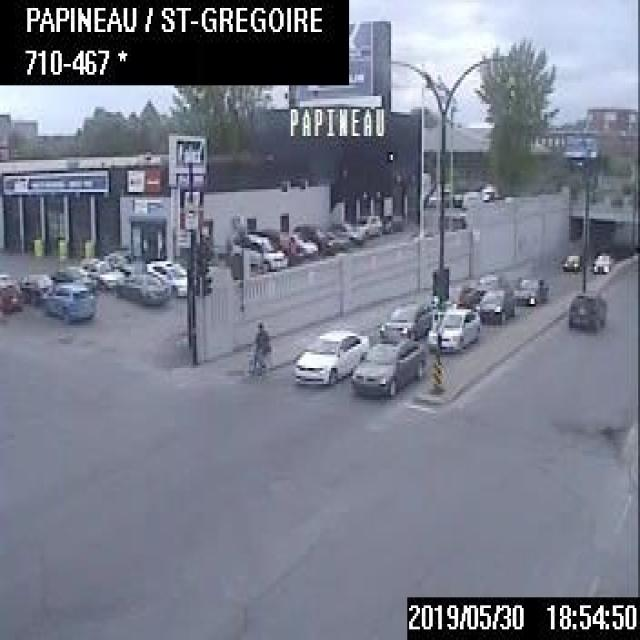pedestrian: (249, 320, 269, 384)
vehicle: (289, 328, 368, 395), (350, 336, 427, 398), (375, 298, 432, 340), (40, 276, 94, 318), (428, 308, 479, 352), (231, 230, 285, 269), (112, 266, 166, 302), (564, 291, 607, 328), (475, 284, 514, 324), (144, 257, 186, 294), (292, 222, 336, 256), (17, 272, 52, 306), (511, 275, 547, 306), (354, 209, 383, 239), (331, 221, 362, 245), (0, 283, 22, 309), (324, 228, 349, 250), (379, 211, 402, 231), (591, 251, 609, 272), (560, 251, 580, 269)
